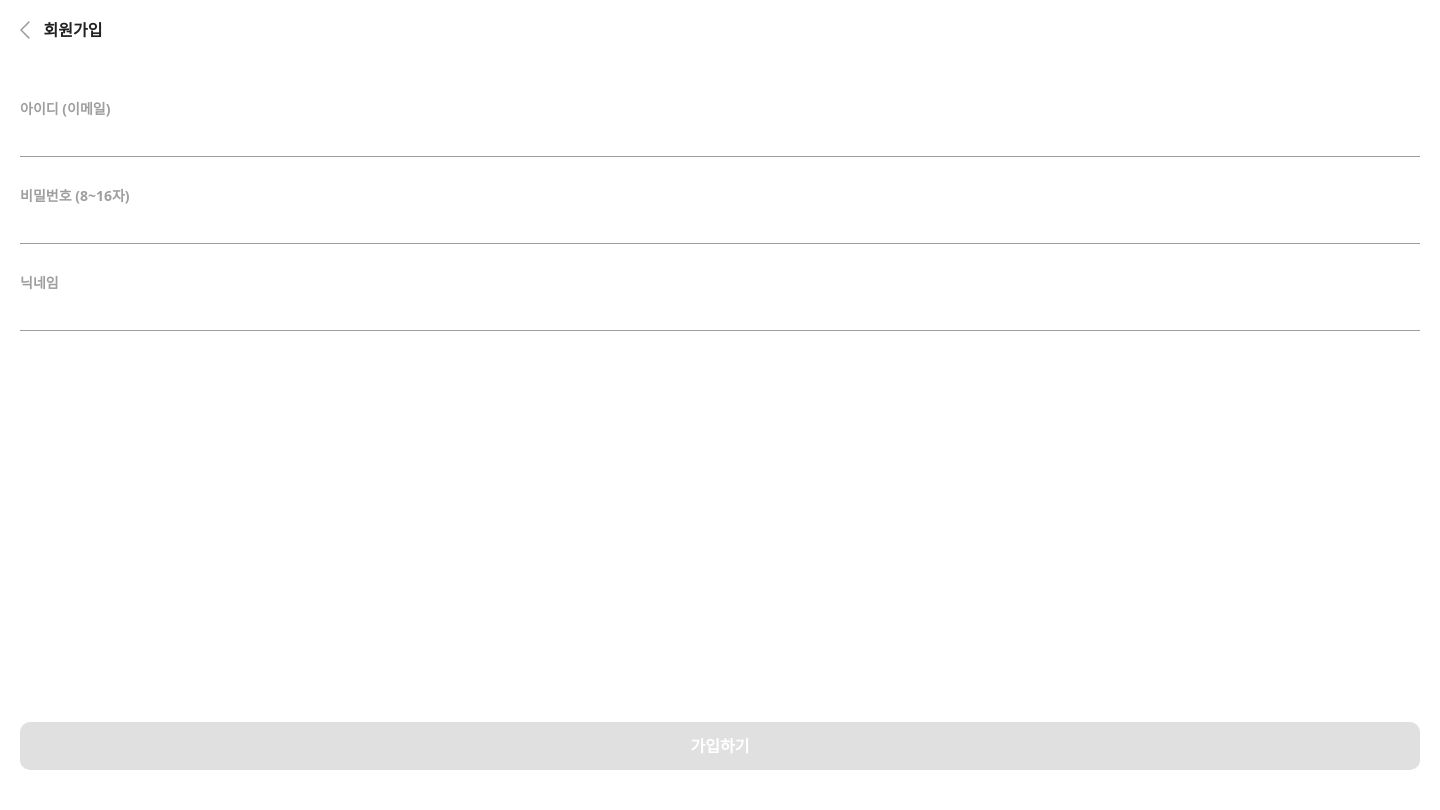
Test: 회원가입 테스트 › 이메일 형식에 맞지 않는 이메일을 입력한 뒤 가입하기 버튼을 누르면 이메일 관련 에러메시지가 뜬다.
This screenshot has width=1440, height=810.
Check: the button "가입하기" is disabled, box [20,722,1420,770]
Type "brian990614" into the field labelled "아이디 (이메일)". click: (720, 141)
box: [20,125,1420,157]
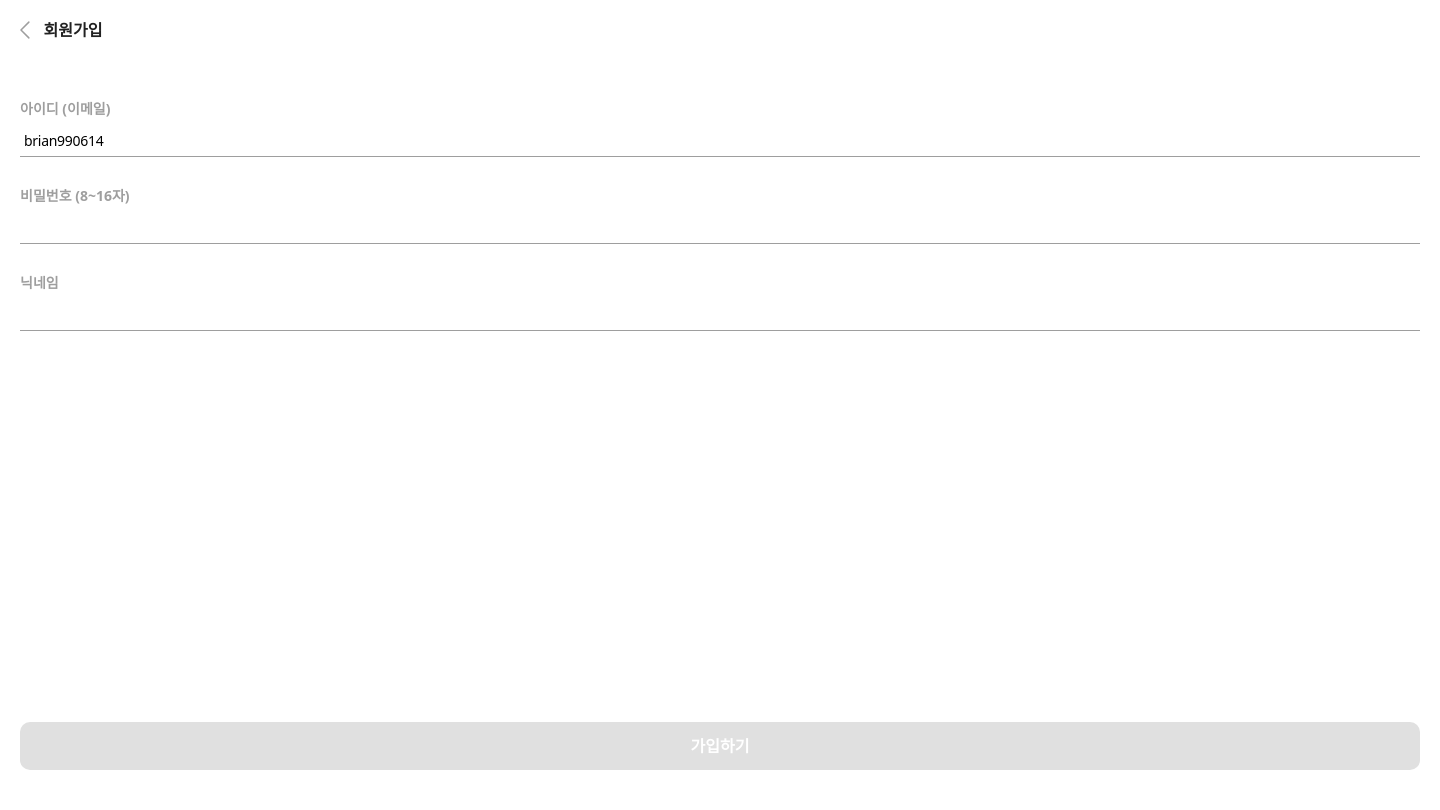
Type "Gusals990!" into the password field labelled "비밀번호 (8~16자)". click: (720, 228)
box: [20,212,1420,244]
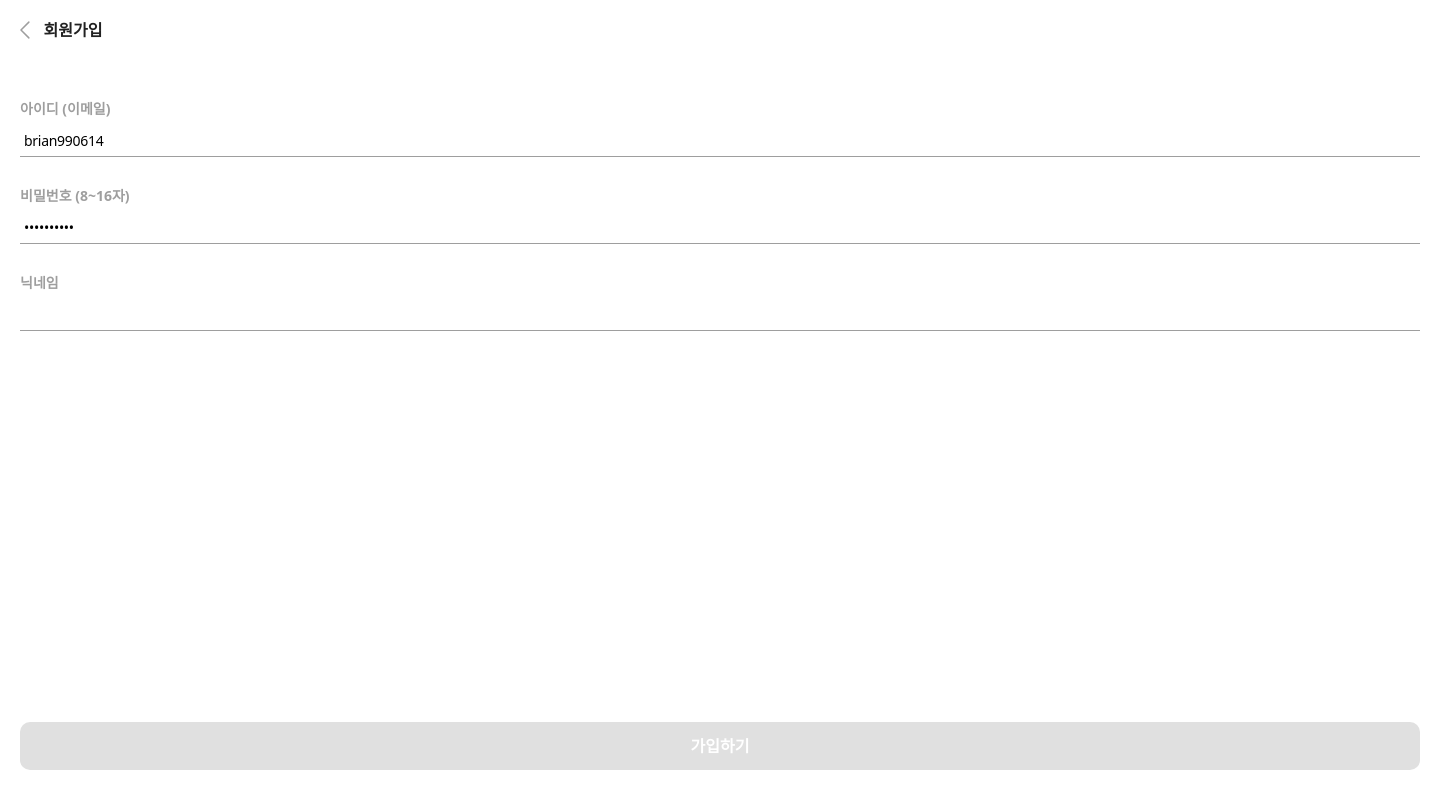
Type "brian" into the field labelled "닉네임". click: (720, 315)
box: [20,299,1420,331]
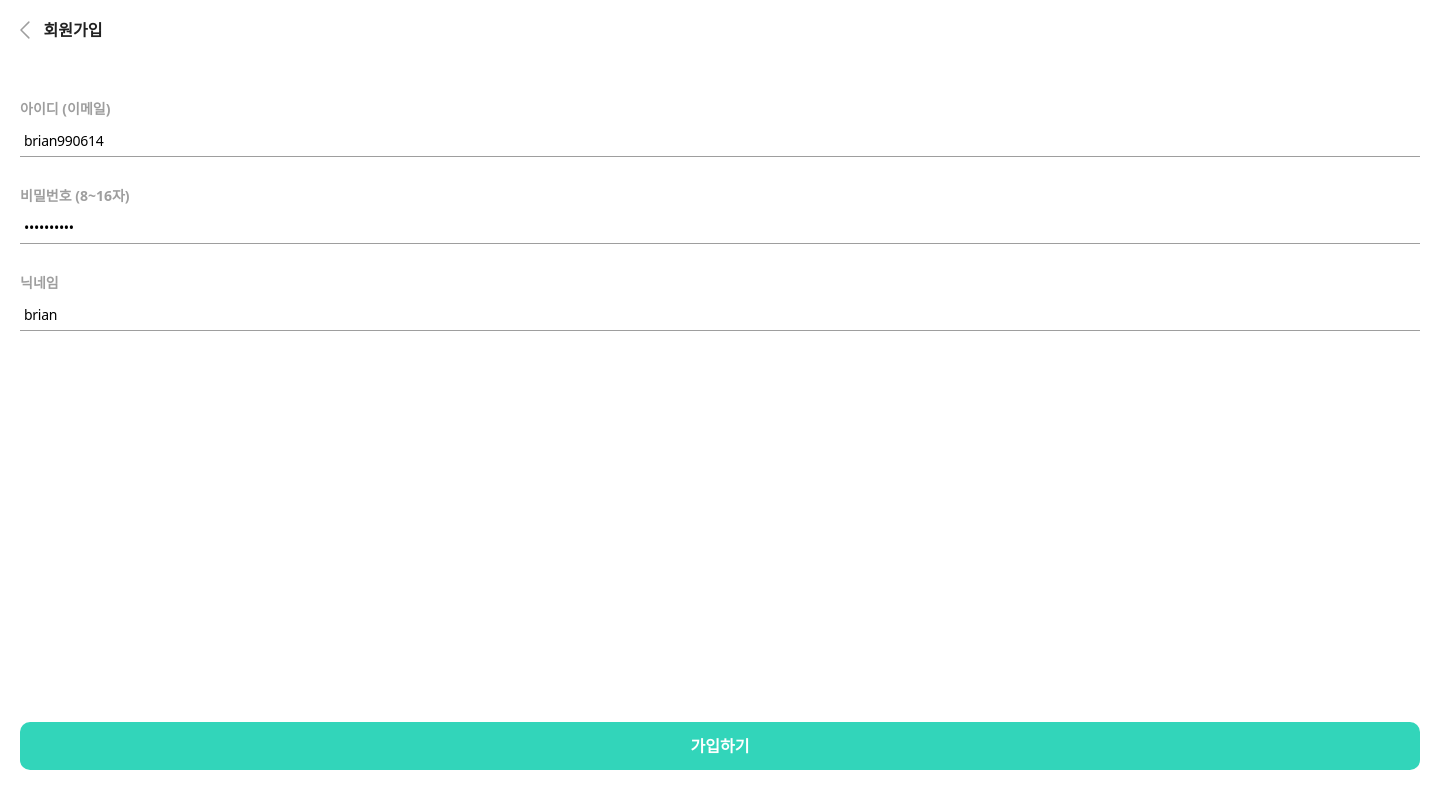
Check: the button "가입하기" is enabled
Click the button "가입하기". click: (720, 746)
box: [20,722,1420,770]
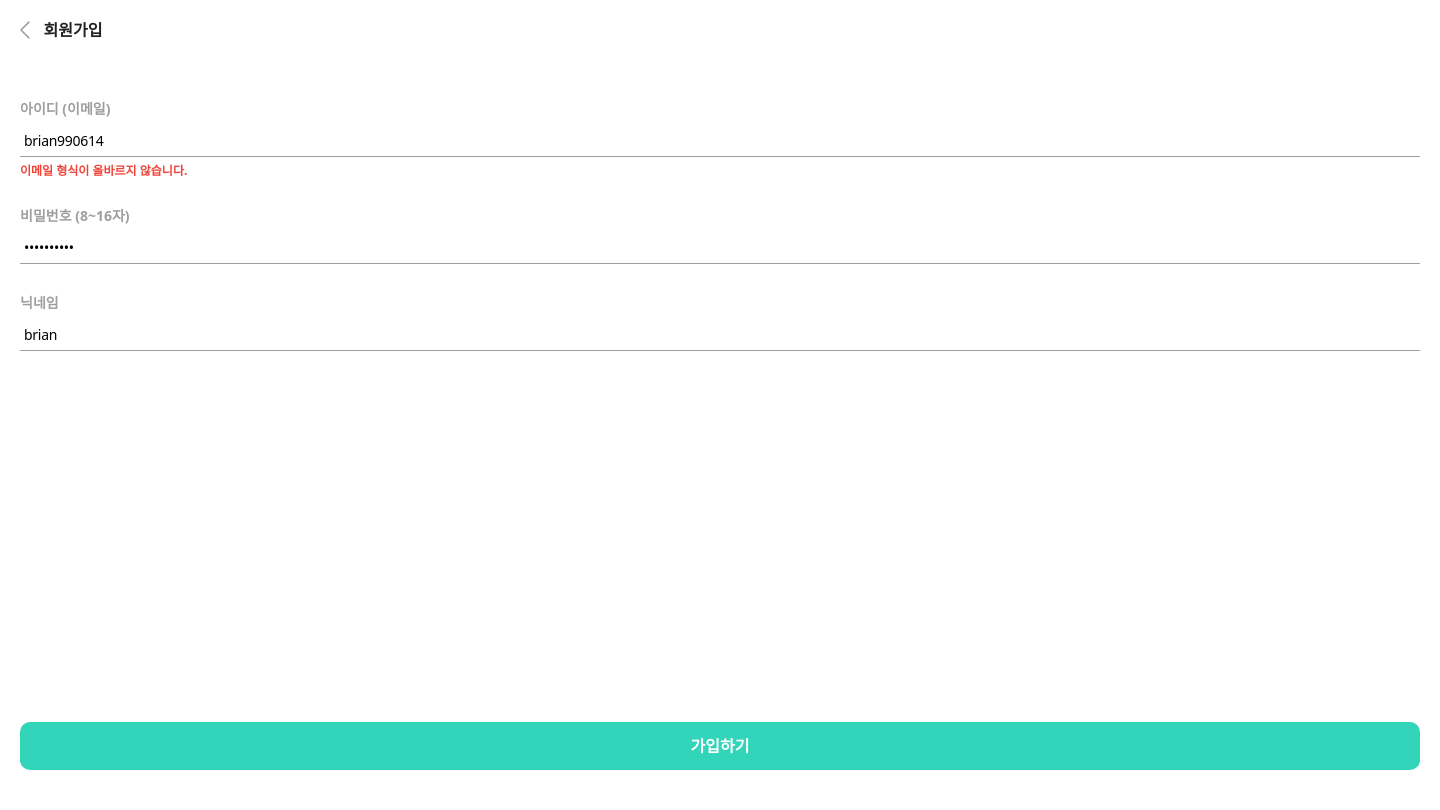
Check: the text "이메일 형식이 올바르지 않습니다." is shown, box [20,162,187,179]
# 이메일 형식에 맞는 아이디로 다시 입력되면
Replace the text in the field labelled "아이디 (이메일)" with "brian990614@naver.com". click: (720, 141)
box: [20,125,1420,157]
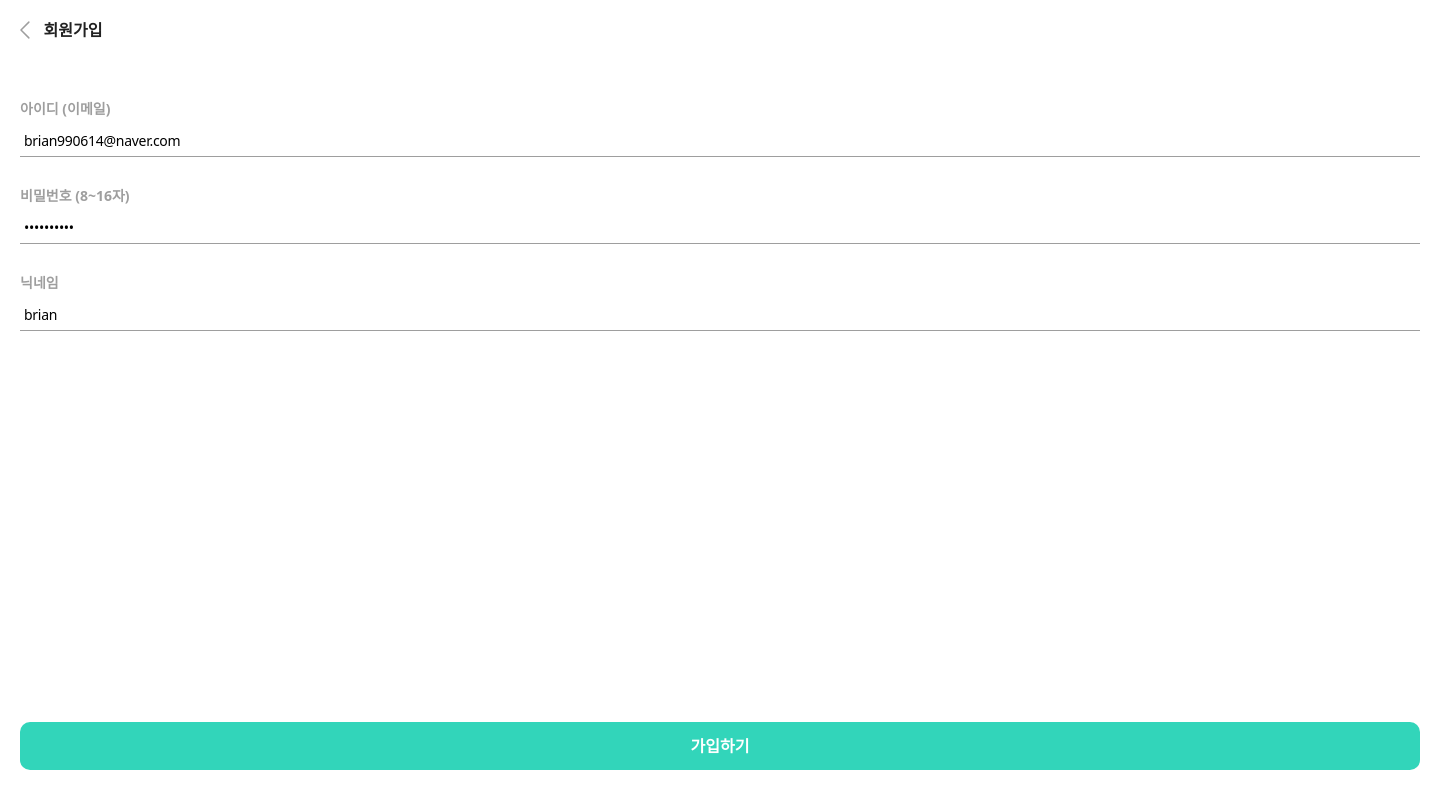
Check: the text with test id "email-error" is gone
